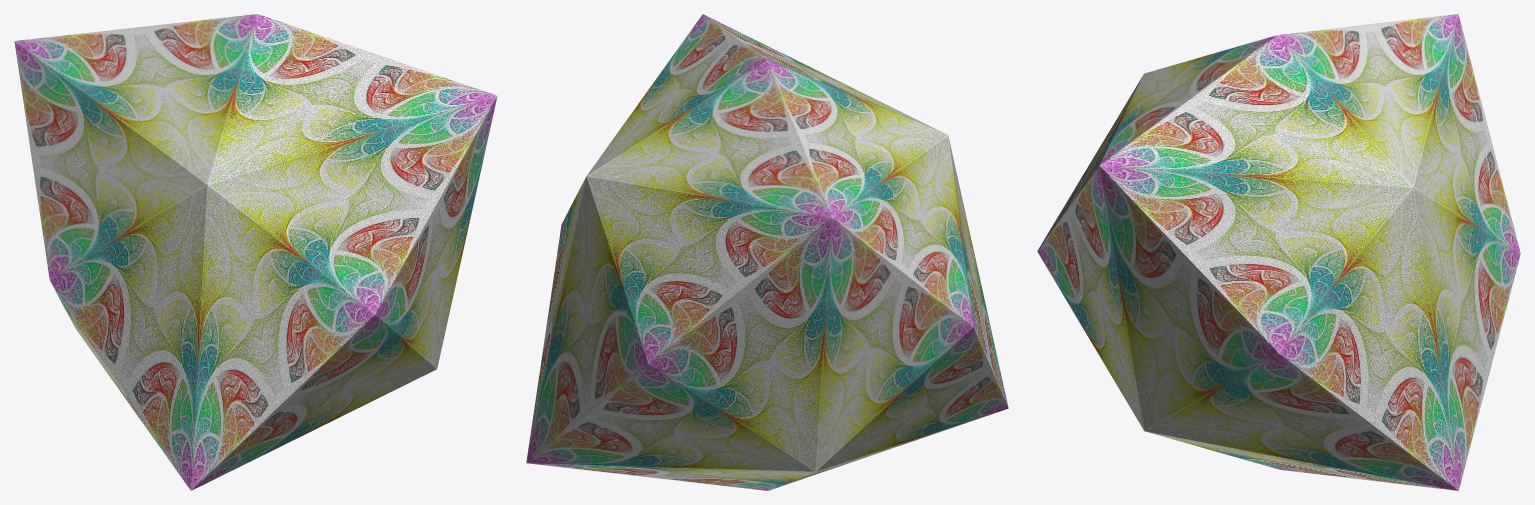
The model's file is HexakisTetrahedron5.obj.
3 renders of one model, left to right at view 1: azimuth 30°, elevation 25°; view 2: azimuth 150°, elevation 25°; view 3: azimuth 270°, elevation 25°, orthographic.
Size of the model in its own units: 9.9 by 9.85 by 9.9.
Materials: 1 (1 with a texture image).
